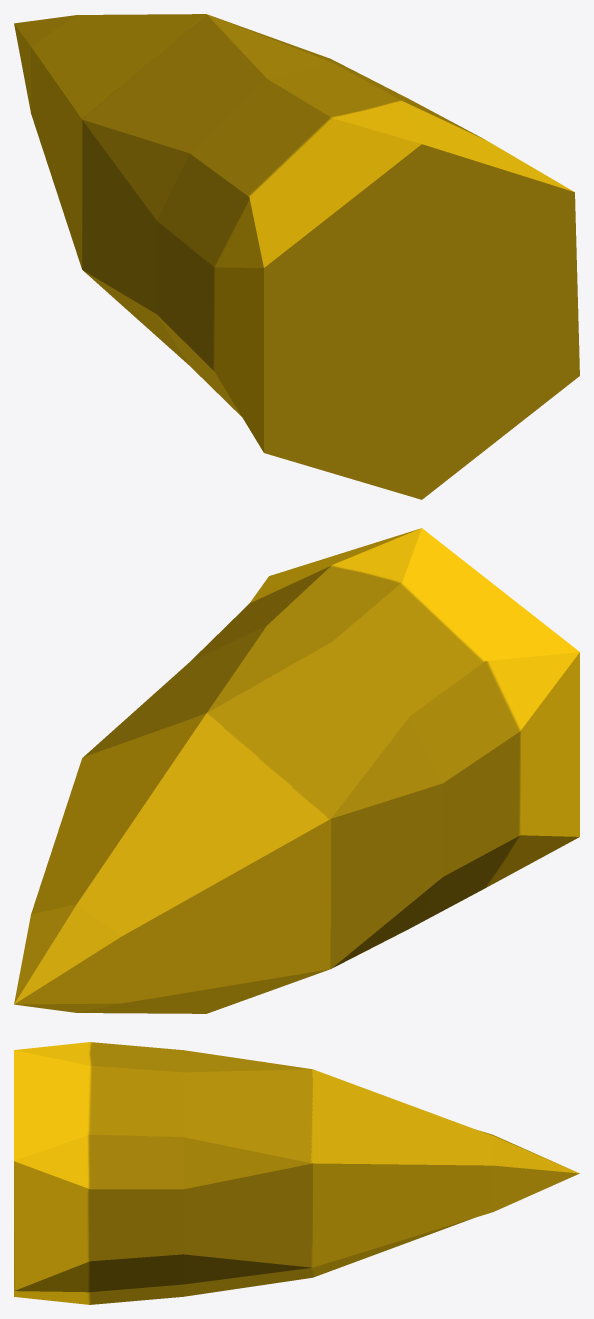
The model's file is ammo.obj.
The picture shows the model from 3 angles, top to bottom: view 1: azimuth 30°, elevation 25°; view 2: azimuth 150°, elevation 25°; view 3: azimuth 270°, elevation 25°; orthographic projection. The views are drawn at different scales.
Visible parts, largest first — view 1: Cylinder.001; view 2: Cylinder.001; view 3: Cylinder.001.
Part boxes in pixels (left/top/right/bottom): Cylinder.001: left=14, top=14, right=579, bottom=499; Cylinder.001: left=14, top=528, right=579, bottom=1013; Cylinder.001: left=14, top=1042, right=579, bottom=1304.
Bounding box in the file's own units: 0.0179 × 0.0192 × 0.04.
Materials: 1 (1 with a texture image).
